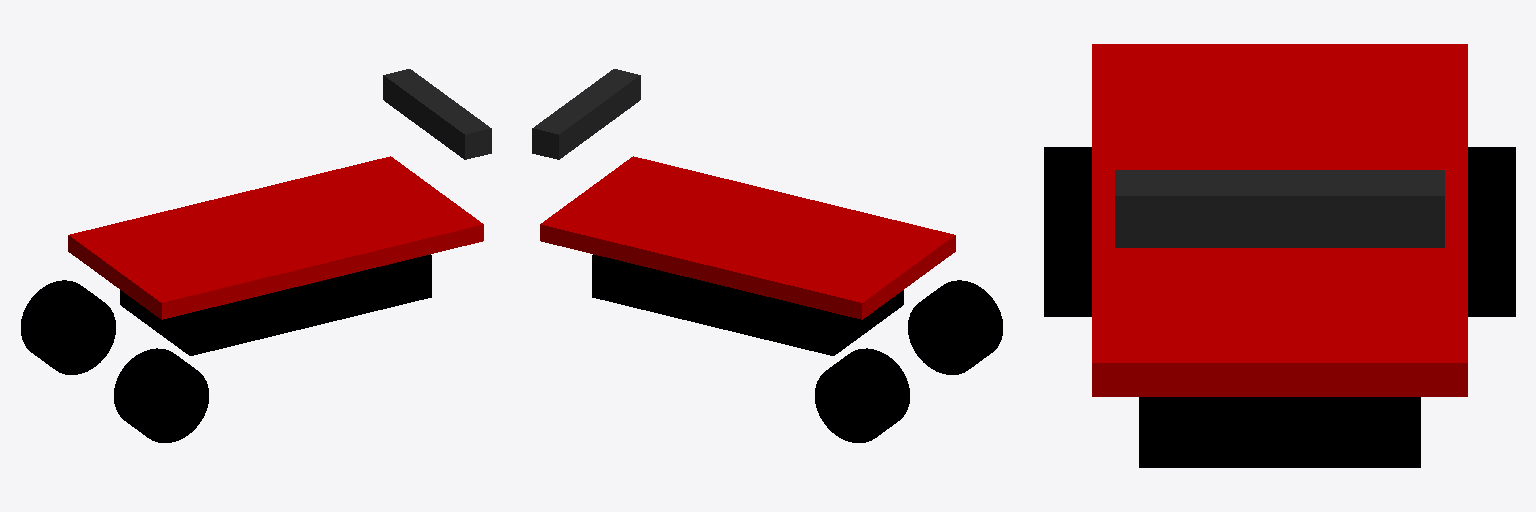
robot.urdf — selfie:
<?xml version="1.0" ?>
<!-- =================================================================================== -->
<!-- |    This document was autogenerated by xacro from [local-path]/catkin_ws/src/selfie_carolocup2019/src/simulator/selfie-simulator/selfie_description/urdf/selfie.xacro | -->
<!-- |    EDITING THIS FILE BY HAND IS NOT RECOMMENDED                                 | -->
<!-- =================================================================================== -->
<robot name="selfie" xmlns:xacro="http://www.ros.org/wiki/xacro">
  <!-- inertial parameter macros -->
  <!-- geometry macros -->
  <!-- transmission macros -->
  <!-- Add chassis and it's inertia link -->
  <link name="base_link"/>
  <link name="chassis">
    <visual>
      <origin rpy="0 0 0" xyz="-0.2 0 0.1"/>
      <geometry>
        <box size="0.4 0.2 0.02"/>
      </geometry>
      <material name="red"/>
    </visual>
    <visual>
      <origin rpy="0 0 0" xyz="-0.2 0 0.05"/>
      <geometry>
        <box size="0.3 0.15 0.05"/>
      </geometry>
      <material name="black"/>
    </visual>
  </link>
  <joint name="base_link_joint" type="fixed">
    <origin rpy="0 0 0" xyz="0 0 0.05"/>
    <parent link="base_link"/>
    <child link="chassis"/>
  </joint>
  <link name="chassis_inertia">
    <inertial>
      <origin rpy="0 0 0" xyz="0.1477 0 0"/>
      <mass value="10.0"/>
      <inertia ixx="0.010609" ixy="0" ixz="0" iyy="0.050409" iyz="0" izz="0.05865"/>
    </inertial>
  </link>
  <joint name="chassis_inertia_joint" type="fixed">
    <origin rpy="0 0 0" xyz="0 0 0"/>
    <parent link="chassis"/>
    <child link="chassis_inertia"/>
  </joint>


  <!-- Add the left rear wheel with its joints and tranmissions -->
  <link name="left_rear_wheel">
    <inertial>
      <origin rpy="0 0 0" xyz="0 0 -0.0225"/>
      <mass value="0.34055"/>
      <inertia ixx="0.00026046" ixy="0" ixz="0" iyy="0.00026046" iyz="0" izz="0.00041226"/>
    </inertial>
    <visual>
      <origin rpy="0 0 0" xyz="0 0 0"/>
      <geometry>
        <cylinder radius="0.045" length="0.05"/>
        <!--mesh filename="package://selfie_description/meshes/left_rear_wheel.STL"/-->
      </geometry>
      <material name="black"/>
    </visual>
    <collision>
      robot
      
      <origin rpy="0 0 0" xyz="0 0 -0.0225"/>
      <geometry>
        <cylinder length="0.045" radius="0.05"/>
      </geometry>
    </collision>
  </link>
  <joint name="left_rear_wheel_joint" type="continuous">
    <origin rpy="1.5708 0 0" xyz="-0.4 0.1 0"/>
    <parent link="chassis"/>
    <child link="left_rear_wheel"/>
    <axis xyz="0 0 -1"/>
    <limit effort="10" velocity="1000"/>
  </joint>
  <transmission name="left_rear_wheel_transmission" type="SimpleTransmission">
    <type>transmission_interface/SimpleTransmission</type>
    <joint name="left_rear_wheel_joint">
      <hardwareInterface>EffortJointInterface</hardwareInterface>
    </joint>
    <actuator name="left_rear_wheel_motor">
      <hardwareInterface>EffortJointInterface</hardwareInterface>
      <mechanicalReduction>1</mechanicalReduction>
    </actuator>
  </transmission>


  <!-- Add the right rear wheel with its joints and tranmissions -->
  <link name="right_rear_wheel">
    <inertial>
      <origin rpy="0 0 0" xyz="0 0 0.0225"/>
      <mass value="0.34055"/>
      <inertia ixx="0.00026046" ixy="0" ixz="0" iyy="0.00026046" iyz="0" izz="0.00041226"/>
    </inertial>
    <visual>
      <origin rpy="0 0 0" xyz="0 0 0"/>
      <geometry>
        <cylinder radius="0.045" length="0.05"/>
        <!--mesh filename="package://selfie_description/meshes/right_rear_wheel.STL"/-->
      </geometry>
      <material name="black"/>
    </visual>
    <collision>
      <origin rpy="0 0 0" xyz="0 0 0.0225"/>
      <geometry>
        <cylinder length="0.045" radius="0.05"/>
      </geometry>
    </collision>
  </link>
  <joint name="right_rear_wheel_joint" type="continuous">
    <origin rpy="1.5708 0 0" xyz="-0.4 -0.1 0"/>
    <parent link="chassis"/>
    <child link="right_rear_wheel"/>
    <axis xyz="0 0 -1"/>
    <limit effort="10" velocity="1000"/>
  </joint>
  <transmission name="right_rear_wheel_transmission" type="SimpleTransmission">
    <type>transmission_interface/SimpleTransmission</type>
    <joint name="right_rear_wheel_joint">
      <hardwareInterface>EffortJointInterface</hardwareInterface>
    </joint>
    <actuator name="right_rear_wheel_motor">
      <hardwareInterface>EffortJointInterface</hardwareInterface>
      <mechanicalReduction>1</mechanicalReduction>
    </actuator>
  </transmission>



  <!-- Add the left steering hinge with its joints and tranmissions -->
  <link name="left_steering_hinge">
    <inertial>
      <origin rpy="0 0 0" xyz="0 0 0"/>
      <mass value="0.100"/>
      <inertia ixx="4E-06" ixy="0" ixz="0" iyy="4E-06" iyz="0" izz="4E-06"/>
    </inertial>
    <visual>
      <origin rpy="0 0 0" xyz="0 0 0"/>
      <geometry>
        <mesh filename="package://selfie_description/meshes/left_steering_hinge.STL"/>
      </geometry>
      <material name="grey"/>
    </visual>
  </link>
  <joint name="left_steering_hinge_joint" type="revolute">
    <origin rpy="0 1.5708 0" xyz="0.0 0.1 0"/>
    <parent link="chassis"/>
    <child link="left_steering_hinge"/>
    <axis xyz="-1 0 0"/>
    <limit effort="10" lower="-1.0" upper="1.0" velocity="1000"/>
  </joint>
  <transmission name="left_steering_hinge_transmission" type="SimpleTransmission">
    <type>transmission_interface/SimpleTransmission</type>
    <joint name="left_steering_hinge_joint">
      <hardwareInterface>EffortJointInterface</hardwareInterface>
    </joint>
    <actuator name="left_steering_hinge_motor">
      <hardwareInterface>EffortJointInterface</hardwareInterface>
      <mechanicalReduction>1</mechanicalReduction>
    </actuator>
  </transmission>


  <!-- Add the right steering hinge with its joints and tranmissions -->
  <link name="right_steering_hinge">
    <inertial>
      <origin rpy="0 0 0" xyz="0 0 0"/>
      <mass value="0.100"/>
      <inertia ixx="4E-06" ixy="0" ixz="0" iyy="4E-06" iyz="0" izz="4E-06"/>
    </inertial>
    <visual>
      <origin rpy="0 0 0" xyz="0 0 0"/>
      <geometry>
        <mesh filename="package://selfie_description/meshes/right_steering_hinge.STL"/>
      </geometry>
      <material name="grey"/>
    </visual>
  </link>
  <joint name="right_steering_hinge_joint" type="continuous">
    <origin rpy="0 1.5708 0" xyz="0.0 -0.1 0"/>
    <parent link="chassis"/>
    <child link="right_steering_hinge"/>
    <axis xyz="-1 0 0"/>
    <limit effort="10" lower="-1.0" upper="1.0" velocity="1000"/>
  </joint>
  <transmission name="right_steering_hinge_transmission" type="SimpleTransmission">
    <type>transmission_interface/SimpleTransmission</type>
    <joint name="right_steering_hinge_joint">
      <hardwareInterface>EffortJointInterface</hardwareInterface>
    </joint>
    <actuator name="right_steering_hinge_motor">
      <hardwareInterface>EffortJointInterface</hardwareInterface>
      <mechanicalReduction>1</mechanicalReduction>
    </actuator>
  </transmission>



  <!-- Add the left front wheel with its joints and tranmissions -->
  <link name="left_front_wheel">
    <inertial>
      <origin rpy="0 0 0" xyz="0 0 -0.0225"/>
      <mass value="0.34055"/>
      <inertia ixx="0.00026046" ixy="0" ixz="0" iyy="0.00026046" iyz="0" izz="0.00041226"/>
    </inertial>
    <visual>
      <origin rpy="0 0 0" xyz="0 0 0"/>
      <geometry>
        <mesh filename="package://selfie_description/meshes/left_front_wheel.STL"/>
      </geometry>
      <material name="black"/>
    </visual>
    <collision>
      <origin rpy="0 0 0" xyz="0 0 -0.0225"/>
      <geometry>
        <cylinder length="0.045" radius="0.05"/>
      </geometry>
    </collision>
  </link>
  <joint name="left_front_wheel_joint" type="continuous">
    <origin rpy="1.5708 0 0" xyz="0 0 0"/>
    <parent link="left_steering_hinge"/>
    <child link="left_front_wheel"/>
    <axis xyz="0 0 -1"/>
    <limit effort="10" velocity="1000"/>
  </joint>
  <transmission name="left_front_wheel_transmission" type="SimpleTransmission">
    <type>transmission_interface/SimpleTransmission</type>
    <joint name="left_front_wheel_joint">
      <hardwareInterface>EffortJointInterface</hardwareInterface>
    </joint>
    <actuator name="left_front_wheel_motor">
      <hardwareInterface>EffortJointInterface</hardwareInterface>
      <mechanicalReduction>1</mechanicalReduction>
    </actuator>
  </transmission>



  <!-- Add the left front wheel with its joints and tranmissions -->
  <link name="right_front_wheel">
    <inertial>
      <origin rpy="0 0 0" xyz="0 0 0.0225"/>
      <mass value="0.34055"/>
      <inertia ixx="0.00026046" ixy="0" ixz="0" iyy="0.00026046" iyz="0" izz="0.00041226"/>
    </inertial>
    <visual>
      <origin rpy="0 0 0" xyz="0 0 0"/>
      <geometry>
        <mesh filename="package://selfie_description/meshes/right_front_wheel.STL"/>
      </geometry>
      <material name="black"/>
    </visual>
    <collision>
      <origin rpy="0 0 0" xyz="0 0 0.0225"/>
      <geometry>
        <cylinder length="0.045" radius="0.05"/>
      </geometry>
    </collision>
  </link>
  <joint name="right_front_wheel_joint" type="continuous">
    <origin rpy="1.5708 0 0" xyz="0 0 0"/>
    <parent link="right_steering_hinge"/>
    <child link="right_front_wheel"/>
    <axis xyz="0 0 -1"/>
    <limit effort="10" velocity="1000"/>
  </joint>
  <transmission name="right_front_wheel_transmission" type="SimpleTransmission">
    <type>transmission_interface/SimpleTransmission</type>
    <joint name="right_front_wheel_joint">
      <hardwareInterface>EffortJointInterface</hardwareInterface>
    </joint>
    <actuator name="right_front_wheel_motor">
      <hardwareInterface>EffortJointInterface</hardwareInterface>
      <mechanicalReduction>1</mechanicalReduction>
    </actuator>
  </transmission>


  
  <!-- Add Hokuyo laser scanner -->
  <link name="laser">
    <inertial>
      <origin rpy="0 0 0" xyz="0 0 0"/>
      <mass value="0.130"/>
      <inertia ixx="4E-06" ixy="0" ixz="0" iyy="4E-06" iyz="0" izz="4E-06"/>
    </inertial>
    <collision>
      <origin rpy="0 0 0" xyz="0 0 0"/>
      <geometry>
        <box size="0.1 0.1 0.1"/>
      </geometry>
    </collision>
    <visual>
      <origin rpy="0 0 0" xyz="0 0 0"/>
      <geometry>
        <mesh filename="package://selfie_description/meshes/hokuyo.dae"/>
        <material name="grey"/>
      </geometry>
    </visual>
  </link>
  <joint name="hokuyo_joint" type="fixed">
    <origin rpy="0 0 0" xyz="-0.05 0.0 0.25"/>
    <parent link="chassis"/>
    <child link="laser"/>
    <axis xyz="0 0 1"/>
  </joint>


  
  <!-- zed camera -->
  <link name="camera_link">
    <inertial>
      <mass value="1e-5"/>
      <origin rpy="0 5 0" xyz="0 0.5 0.1"/>
      <inertia ixx="1e-6" ixy="0" ixz="0" iyy="1e-6" iyz="0" izz="1e-6"/>
    </inertial>
    <collision>
      <origin rpy="0 0 0" xyz="0 0 0"/>
      <geometry>
        <box size="0.033 0.175 0.030"/>
      </geometry>
    </collision>
    <visual>
      <origin rpy="0 0 0" xyz="0 0 0"/>
      <geometry>
        <box size="0.033 0.175 0.030"/>
      </geometry>
      <material name="grey"/>
    </visual>
  </link>


  <joint name="main_camera_joint" type="fixed">
    <origin rpy="0 0 0" xyz="0 0 0.2"/>
    <parent link="chassis"/>
    <child link="camera_link"/>
    <axis xyz="0 0 1"/>
    <!-- <limit lower="0.0" upper="0.0" effort="0.0" velocity="0.0" /> -->
  </joint>


  <!-- zed camera lenses -->
  <!-- It seems these have to have a non-zero mass to have a camera attached? -->
  <link name="zed_camera_link">
    <!-- this needs to match the name in zed_wrapper/zed_tf.launch -->
    <inertial>
      <mass value="1e-5"/>
      <origin rpy="0 0 0" xyz="0 0 0"/>
      <inertia ixx="1e-6" ixy="0" ixz="0" iyy="1e-6" iyz="0" izz="1e-6"/>
    </inertial>
  </link>
  <joint name="zed_camera_left_joint" type="fixed">
    <origin rpy="0 0 0" xyz="0 0.06 0"/>
    <parent link="camera_link"/>
    <child link="zed_camera_link"/>
    <axis xyz="0 0 1"/>
  </joint>
  <!-- Add the remaining xacros -->
  <!-- Gazebo references -->
  <gazebo reference="chassis">
    <mu1 value="0.0"/>
    <mu2 value="0.0"/>
    <kp value="10000000.0"/>
    <kd value="1.0"/>
    <material>Gazebo/Red</material>
  </gazebo>
  <gazebo reference="left_rear_wheel">
    <mu1 value="2.0"/>
    <mu2 value="2.0"/>
    <kp value="10000000.0"/>
    <kd value="1.0"/>
    <fdir1 value="1 0 0"/>
    <material>Gazebo/White</material>
  </gazebo>
  <gazebo reference="right_rear_wheel">
    <mu1 value="2.0"/>
    <mu2 value="2.0"/>
    <kp value="10000000.0"/>
    <kd value="1.0"/>
    <fdir1 value="1 0 0"/>
    <material>Gazebo/White</material>
  </gazebo>
  <gazebo reference="left_front_wheel">
    <mu1 value="2.0"/>
    <mu2 value="2.0"/>
    <kp value="10000000.0"/>
    <kd value="1.0"/>
    <fdir1 value="0 0 1"/>
    <material>Gazebo/White</material>
  </gazebo>
  <gazebo reference="right_front_wheel">
    <mu1 value="2.0"/>
    <mu2 value="2.0"/>
    <kp value="10000000.0"/>
    <kd value="1.0"/>
    <fdir1 value="0 0 1"/>
    <material>Gazebo/White</material>
  </gazebo>
  <!-- Gazebo plugins -->
  <gazebo>
    <plugin filename="libgazebo_ros_control.so" name="gazebo_ros_control">
      <robotNamespace>/selfie</robotNamespace>
      <robotSimType>gazebo_ros_control/DefaultRobotHWSim</robotSimType>
    </plugin>
  </gazebo>
  <gazebo reference="laser">
    <material>Gazebo/Grey</material>
    <sensor name="hokuyo_sensor" type="ray">
      <pose>0 0 0.0124 0 0 0</pose>
      <visualize>true</visualize>
      <update_rate>40</update_rate>
      <ray>
        <scan>
          <horizontal>
            <samples>1081</samples>
            <resolution>1</resolution>
            <min_angle>-2.3561944902</min_angle>
            <max_angle>2.3561944902</max_angle>
          </horizontal>
        </scan>
        <range>
          <min>0.1</min>
          <max>30.0</max>
          <resolution>0.01</resolution>
        </range>
        <noise>
          <mean>0.0</mean>
          <stddev>0.05</stddev>
        </noise>
      </ray>
      <plugin filename="libgazebo_ros_laser.so" name="gazebo_ros_hokuyo_controller">
        <topicName>/scan</topicName>
        <frameName>laser</frameName>
      </plugin>
    </sensor>
  </gazebo>
  <gazebo reference="camera_link">
    <sensor name="camera_sensor" type="camera">
      <update_rate>30.0</update_rate>
      <!-- math.atan(320 / 687.8065795898438) * 2 -->
      <camera name="main_camera">
        <horizontal_fov>0.8709216071359963</horizontal_fov>
        <!--0.8709216071359963-->
        <image>
          <width>640</width>
          <!-- 640 -->
          <height>480</height>
          <!-- 480-->
          <format>B8G8R8</format>
        </image>
        <clip>
          <near>0.02</near>
          <far>300</far>
        </clip>
        <noise>
          <type>gaussian</type>
          <mean>0.0</mean>
          <stddev>0.007</stddev>
        </noise>
      </camera>
      <plugin filename="libgazebo_ros_camera.so" name="camera_controller">
        <alwaysOn>true</alwaysOn>
        <updateRate>30</updateRate>
        <!-- 30 -->
        <cameraName>/camera/zed</cameraName>
        <imageTopicName>rgb/image_rect_color</imageTopicName>
        <cameraInfoTopicName>rgb/camera_info</cameraInfoTopicName>
        <frameName>camera_link</frameName>
        <hackBaseline>0</hackBaseline>
        <!-- set this to 0.12 for the second camera -->
        <distortionK1>0.0</distortionK1>
        <distortionK2>0.0</distortionK2>
        <distortionK3>0.0</distortionK3>
        <distortionT1>0.0</distortionT1>
        <distortionT2>0.0</distortionT2>
      </plugin>
    </sensor>
  </gazebo>
  <material name="black">
    <color rgba="0.0 0.0 0.0 1.0"/>
  </material>
  <material name="blue">
    <color rgba="0.0 0.0 0.8 1.0"/>
  </material>
  <material name="green">
    <color rgba="0.0 0.8 0.0 1.0"/>
  </material>
  <material name="grey">
    <color rgba="0.2 0.2 0.2 1.0"/>
  </material>
  <material name="orange">
    <color rgba="1.0 0.423529411765 0.0392156862745 1.0"/>
  </material>
  <material name="brown">
    <color rgba="0.870588235294 0.811764705882 0.764705882353 1.0"/>
  </material>
  <material name="red">
    <color rgba="0.8 0.0 0.0 1.0"/>
  </material>
  <material name="white">
    <color rgba="1.0 1.0 1.0 1.0"/>
  </material>
</robot>

--- What the picture shows (computed from the rendered views, not written in the file) ---
3 views of the same robot in one strip: view 1: azimuth 30°, elevation 25°; view 2: azimuth 150°, elevation 25°; view 3: azimuth 270°, elevation 25° (orthographic).
Model selfie with 12 links and 11 joints (1 revolute, 5 continuous, 5 fixed), rooted at base_link, posed every joint at zero.
Visible links, largest first — view 1: chassis, right_rear_wheel, left_rear_wheel, camera_link; view 2: chassis, left_rear_wheel, right_rear_wheel, camera_link; view 3: chassis, camera_link, left_rear_wheel, right_rear_wheel.
Boxes of the visible links, <box> form: chassis: <box>68,156,483,355</box>; right_rear_wheel: <box>114,348,208,442</box>; left_rear_wheel: <box>21,280,115,374</box>; camera_link: <box>383,69,491,159</box>; chassis: <box>540,156,955,355</box>; left_rear_wheel: <box>815,348,909,442</box>; right_rear_wheel: <box>908,280,1002,374</box>; camera_link: <box>532,69,640,159</box>; chassis: <box>1092,44,1467,467</box>; camera_link: <box>1115,170,1444,247</box>; left_rear_wheel: <box>1468,147,1515,316</box>; right_rear_wheel: <box>1044,147,1091,316</box>.
Size in the robot's own frame: 0.4615 by 0.25 by 0.26 metres.
Meshes: 5 distinct files referenced, 0 mesh visuals loaded (none loaded); not drawn: 5 (reference not matched to a file when rendering).
